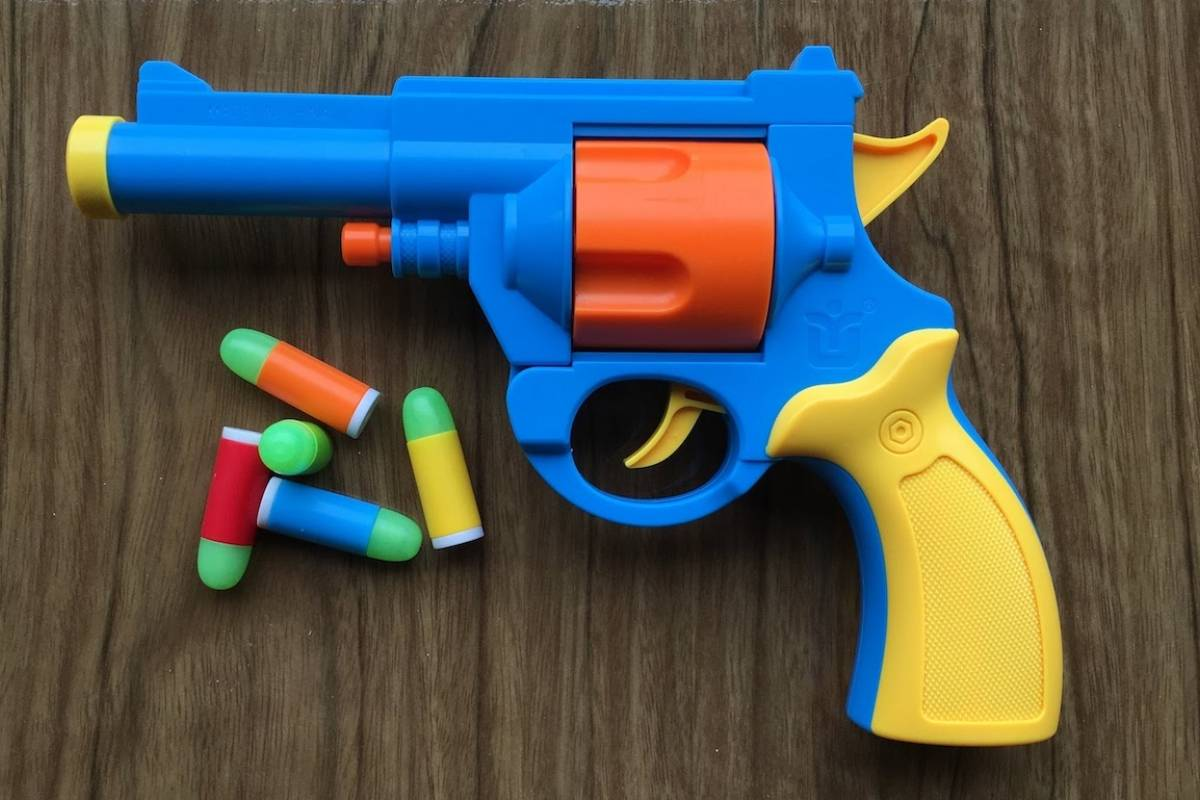Arma Falsa: (65, 53, 1101, 749)
